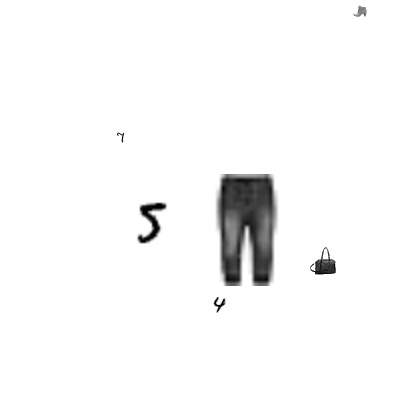4: (208, 293, 230, 315)
5: (122, 191, 178, 247)
7: (114, 129, 128, 143)
Ankle_boot: (353, 4, 367, 18)
Bag: (309, 247, 337, 275)
Trouser: (189, 174, 301, 286)
